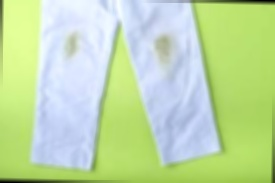earth: (155, 34, 173, 65), (62, 31, 81, 58)
